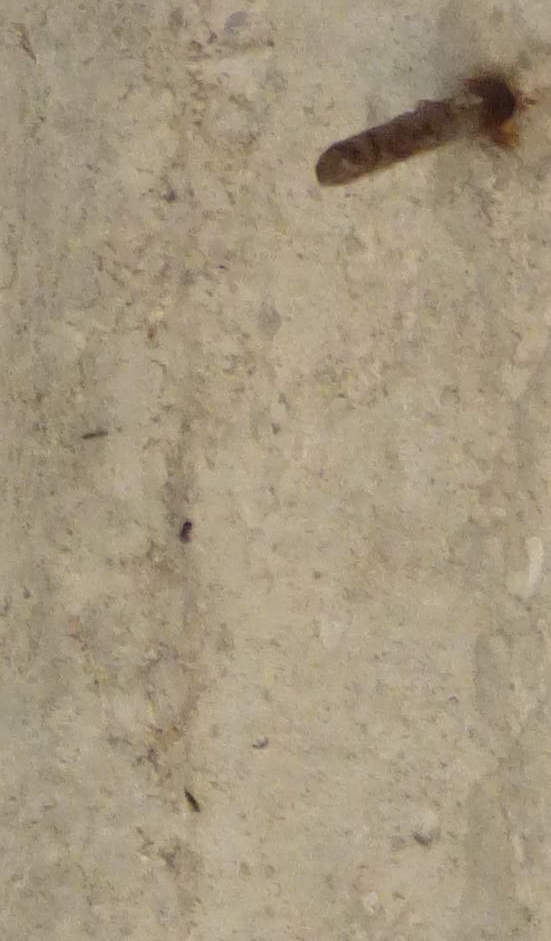Exposed reinforcement: (314, 85, 509, 187)
